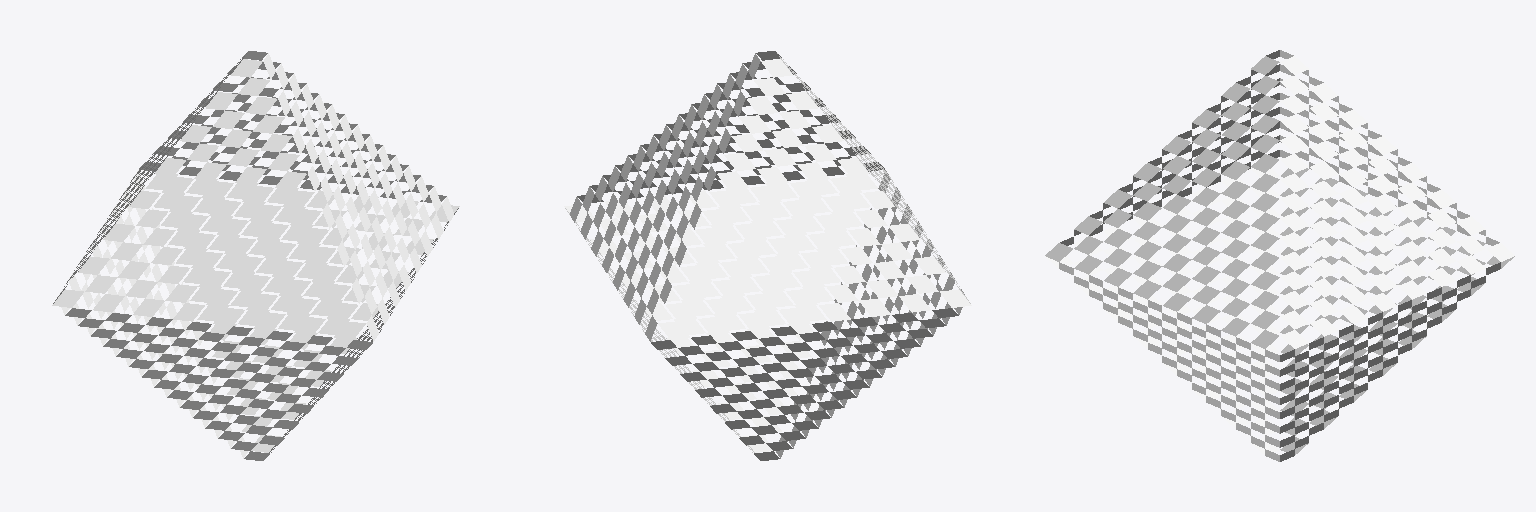
3 renders of one model, left to right at view 1: azimuth 30°, elevation 25°; view 2: azimuth 150°, elevation 25°; view 3: azimuth 270°, elevation 25°, orthographic.
Visible parts, largest first — view 1: Cube; view 2: Cube; view 3: Cube.
Part boxes in pixels (bbox=[...]): Cube: bbox=[52, 51, 459, 460]; Cube: bbox=[564, 51, 971, 460]; Cube: bbox=[1045, 50, 1514, 461].
Size of the model in its own units: 2 by 2 by 2.
Materials: 1 (1 with a texture image).